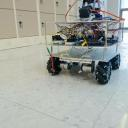cart: (42, 21, 125, 85)
